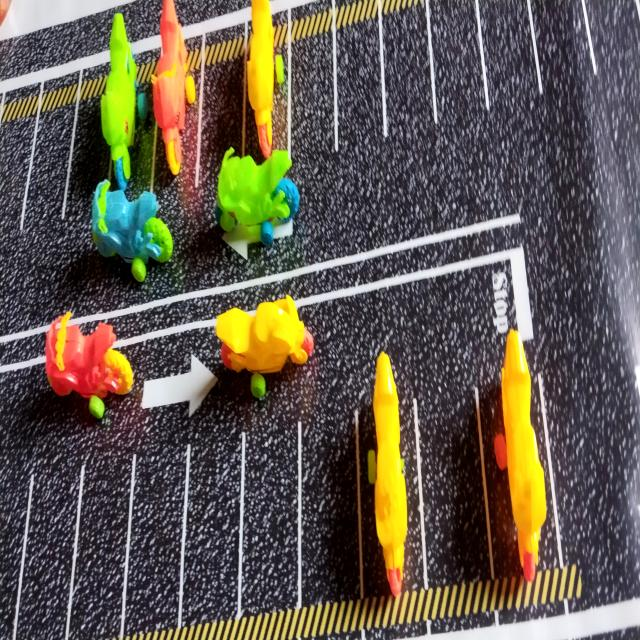bikes: (216, 295, 314, 397), (45, 312, 133, 418), (92, 180, 173, 281), (217, 149, 299, 245)
occupied: (480, 329, 563, 581), (358, 352, 422, 596), (101, 13, 157, 199), (151, 0, 198, 192), (243, 0, 289, 163)
slots: (418, 390, 490, 586), (125, 446, 186, 634), (18, 460, 82, 638), (302, 411, 360, 605), (70, 456, 131, 638), (183, 440, 241, 624), (243, 426, 296, 613), (430, 0, 486, 133), (21, 103, 75, 239), (383, 9, 434, 139), (200, 51, 244, 199), (531, 0, 596, 100), (480, 2, 537, 108), (292, 33, 335, 171), (337, 17, 383, 144), (64, 98, 110, 224), (587, 0, 640, 87), (0, 119, 34, 246)
